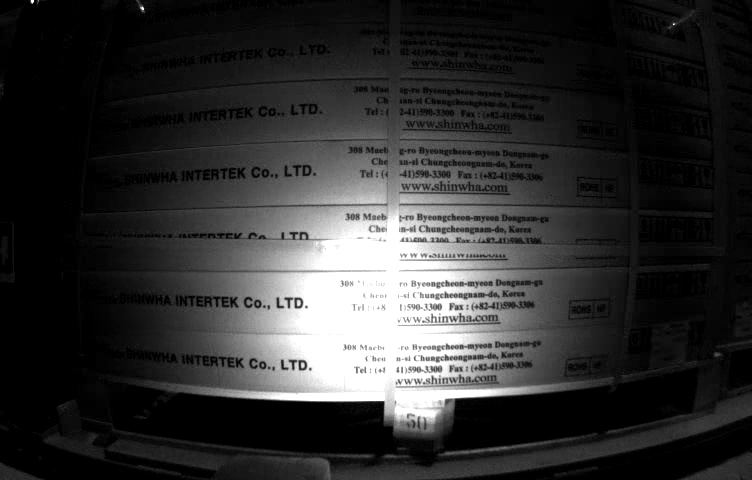True Barcode: (652, 321, 689, 365), (734, 302, 752, 336)
